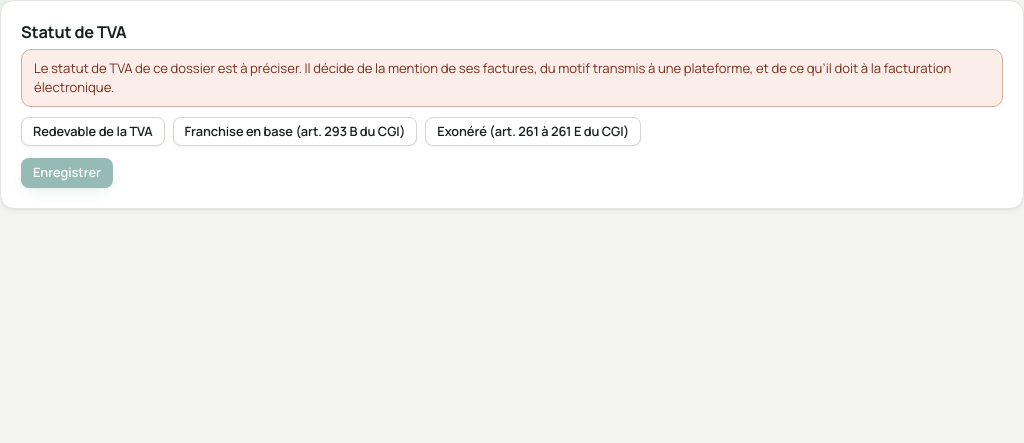
StatutTvaCard — choisir le statut de TVA du dossier › exonéré avec son article : la mention se lit avant le clic, et la page reçoit ce que la base a écrit
Click the button "Exonéré (art. 261 à 261 E du CGI)": (533, 132) [425, 117, 641, 146]
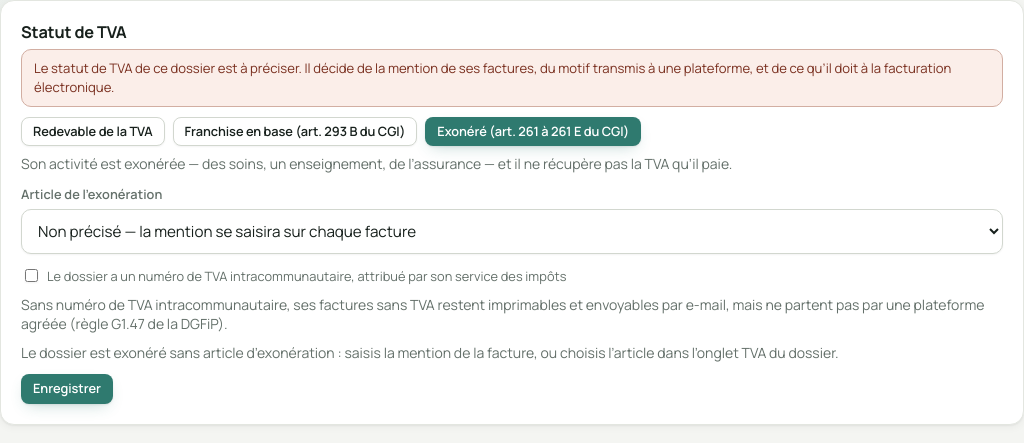
Check: the button "Exonéré (art. 261 à 261 E du CGI)" is pressed, box [425, 117, 641, 146]
Select "Soins dispensés par les professions médicales et paramédicales (art. 261, 4, 1° " in the dropdown labelled "Article de l’exonération": (512, 232) [21, 209, 1003, 254]
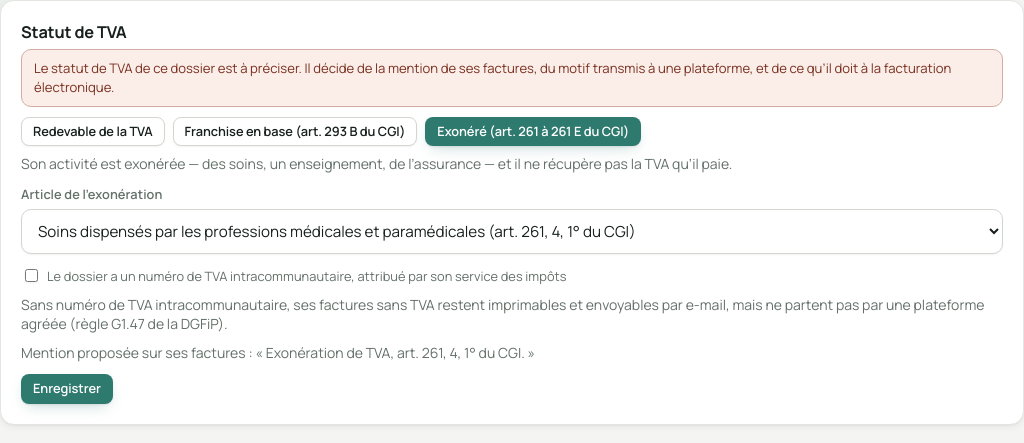
Check: the text "Mention proposée sur ses factures : « Exonération de TVA, art. 261, 4, 1° du CGI. »" is shown, box [21, 343, 535, 362]
Click the button "Enregistrer": (67, 389) [21, 374, 113, 404]
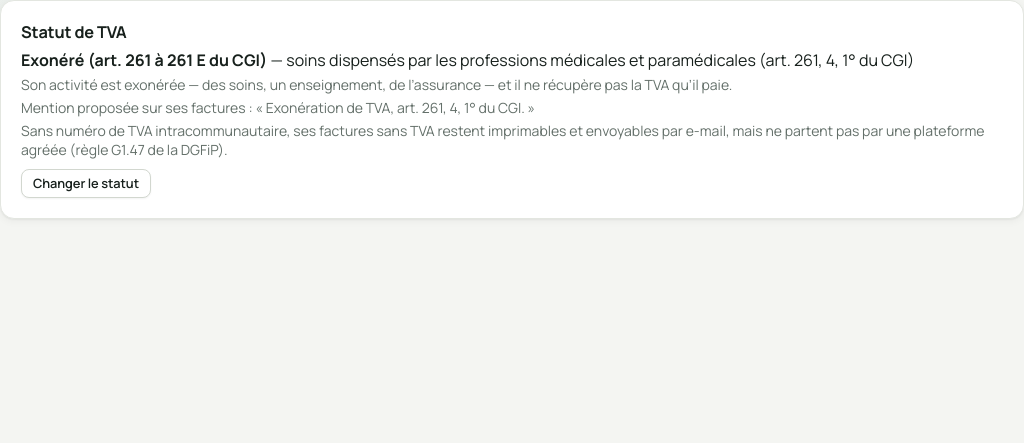
Check: the text "Exonéré (art. 261 à 261 E du CGI)" is shown, box [21, 49, 267, 71]
Check: the text "soins dispensés par les professions médicales et paramédicales (art. 261, 4, 1° du CGI)" is shown, box [21, 49, 1003, 71]
Check: the button "Changer le statut" is shown, box [21, 169, 151, 198]
